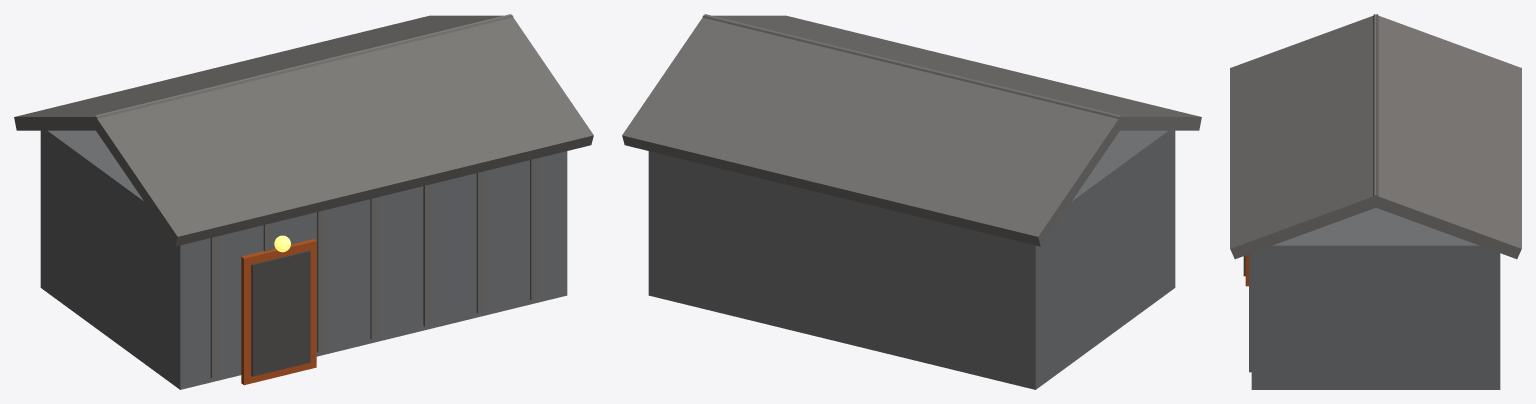
The model's file is tin_shack_script.glb.
The picture shows the model from 3 angles, left to right: view 1: azimuth 30°, elevation 25°; view 2: azimuth 150°, elevation 25°; view 3: azimuth 270°, elevation 25°; orthographic projection. The views are drawn at different scales.
Visible parts, largest first — view 1: Cube, Cube.001, Cube.002, Cube.011, Cube.010, Cube.003, Cube.008, Cube.005, Cube.007, Cube.009, Cube.006; view 2: Cube, Cube.002, Cube.001; view 3: Cube, Cube.001, Cube.002, Cube.009.
Part boxes in pixels (x1,y1,x2,y2): Cube: (40, 130, 567, 389); Cube.001: (92, 14, 593, 246); Cube.002: (14, 15, 513, 130); Cube.011: (251, 250, 310, 376); Cube.010: (241, 239, 316, 385); Cube.003: (210, 236, 219, 378); Cube.008: (476, 171, 485, 313); Cube.005: (317, 210, 325, 352); Cube.007: (423, 184, 431, 326); Cube.009: (530, 158, 538, 300); Cube.006: (370, 197, 378, 339); Cube: (648, 130, 1175, 389); Cube.002: (622, 14, 1123, 246); Cube.001: (702, 15, 1201, 130); Cube: (1251, 208, 1500, 389); Cube.001: (1230, 14, 1381, 259); Cube.002: (1370, 14, 1521, 259); Cube.009: (1249, 253, 1251, 372).
Size of the model in its own units: 8.6 by 4.62 by 5.86.
